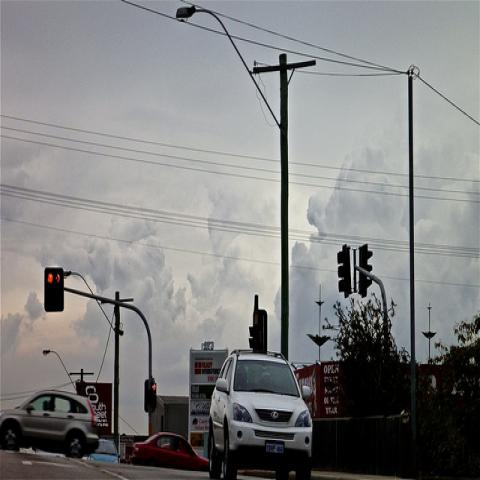car: (207, 349, 313, 467), (0, 388, 99, 460), (130, 430, 210, 472), (84, 436, 121, 466)
